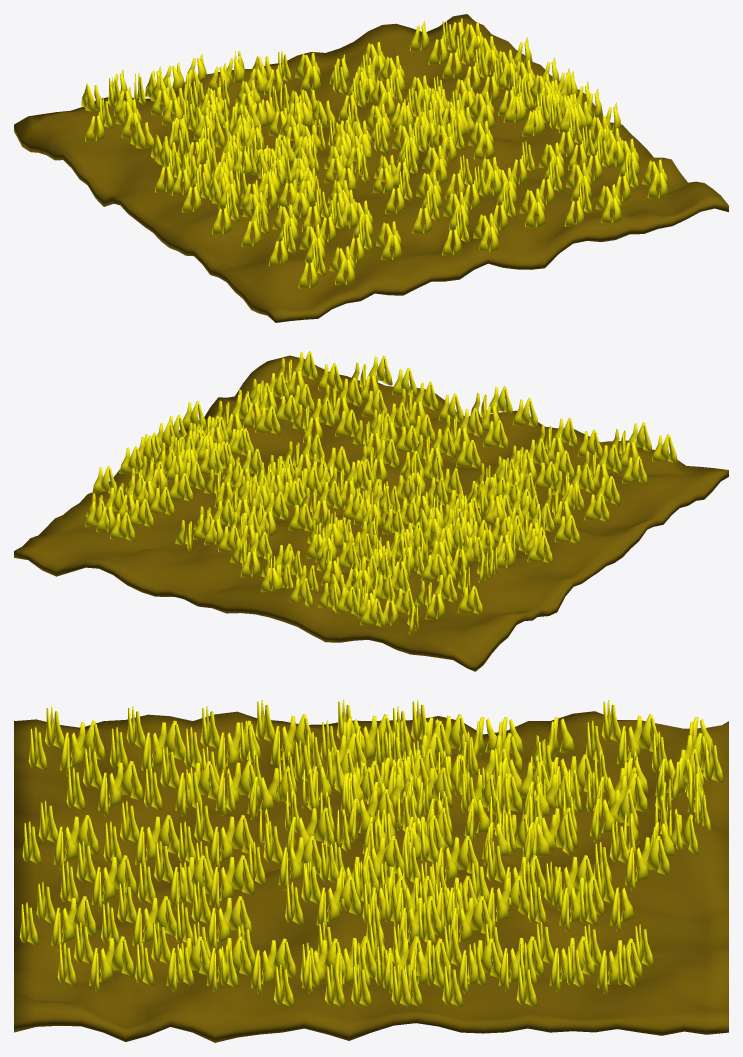
Rendered from palay 1.fbx.
3 views of the same model, one above another, from view 1: azimuth 30°, elevation 25°; view 2: azimuth 150°, elevation 25°; view 3: azimuth 270°, elevation 25° (orthographic). The views are drawn at different scales.
Parts seen in each view (by area): view 1: Plane; view 2: Plane; view 3: Plane.
Boxes of the visible parts, x1,y1,x2,y2 form: Plane: (14,14,728,322); Plane: (14,351,728,671); Plane: (14,700,728,1042).
Bounding box in the file's own units: 5.93 × 0.674 × 5.93.
